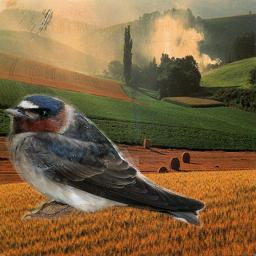Swallow: (0, 92, 208, 229)
